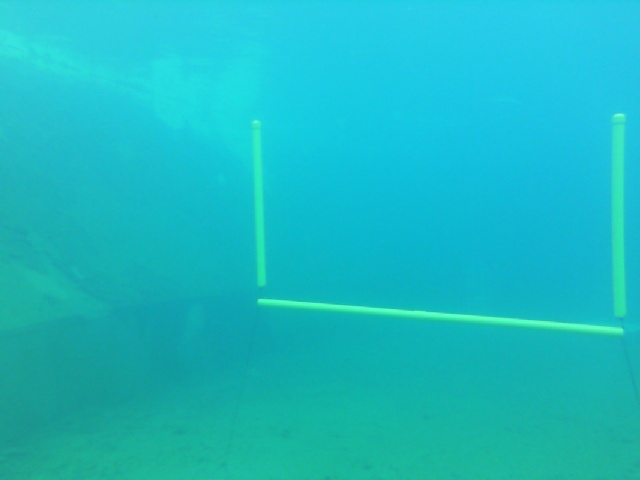channel: (246, 113, 634, 337)
